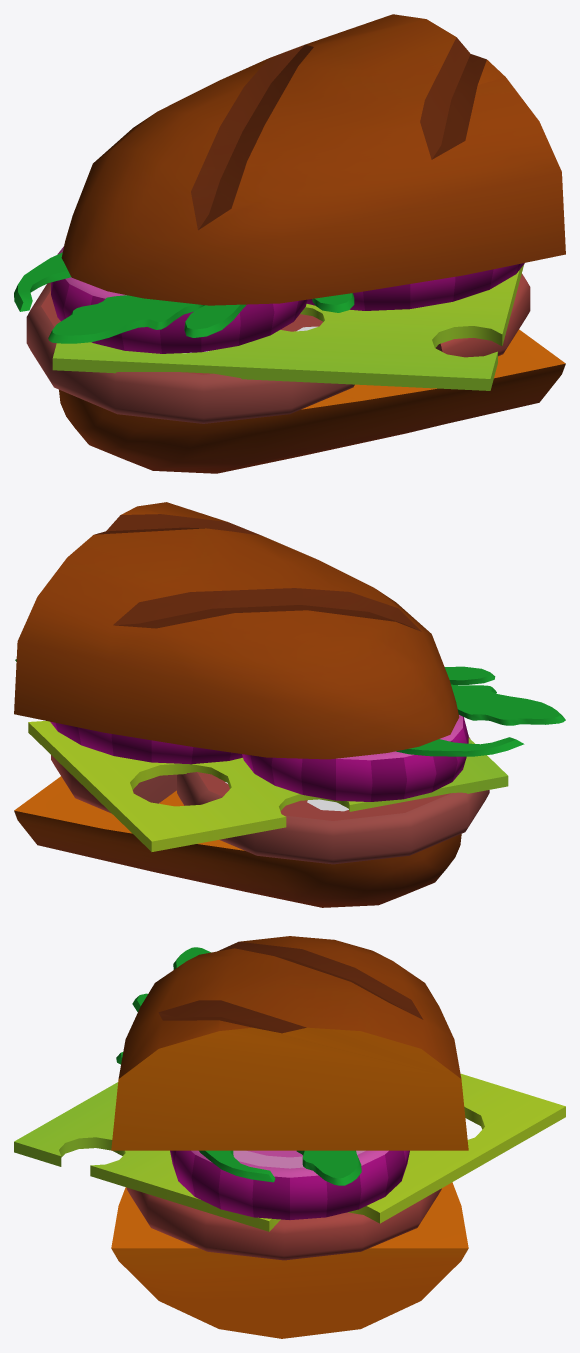
Rendered from Sandwich_half_02.fbx.
The picture shows the model from 3 angles, top to bottom: view 1: azimuth 30°, elevation 25°; view 2: azimuth 150°, elevation 25°; view 3: azimuth 270°, elevation 25°; orthographic projection. The views are drawn at different scales.
Visible parts, largest first — view 1: Sandwich_half_02; view 2: Sandwich_half_02; view 3: Sandwich_half_02.
Part boxes in pixels (x1,y1,x2,y2): Sandwich_half_02: [14, 14, 565, 473]; Sandwich_half_02: [14, 502, 565, 907]; Sandwich_half_02: [14, 936, 565, 1338].
Size of the model in its own units: 117 by 116 by 72.33.
